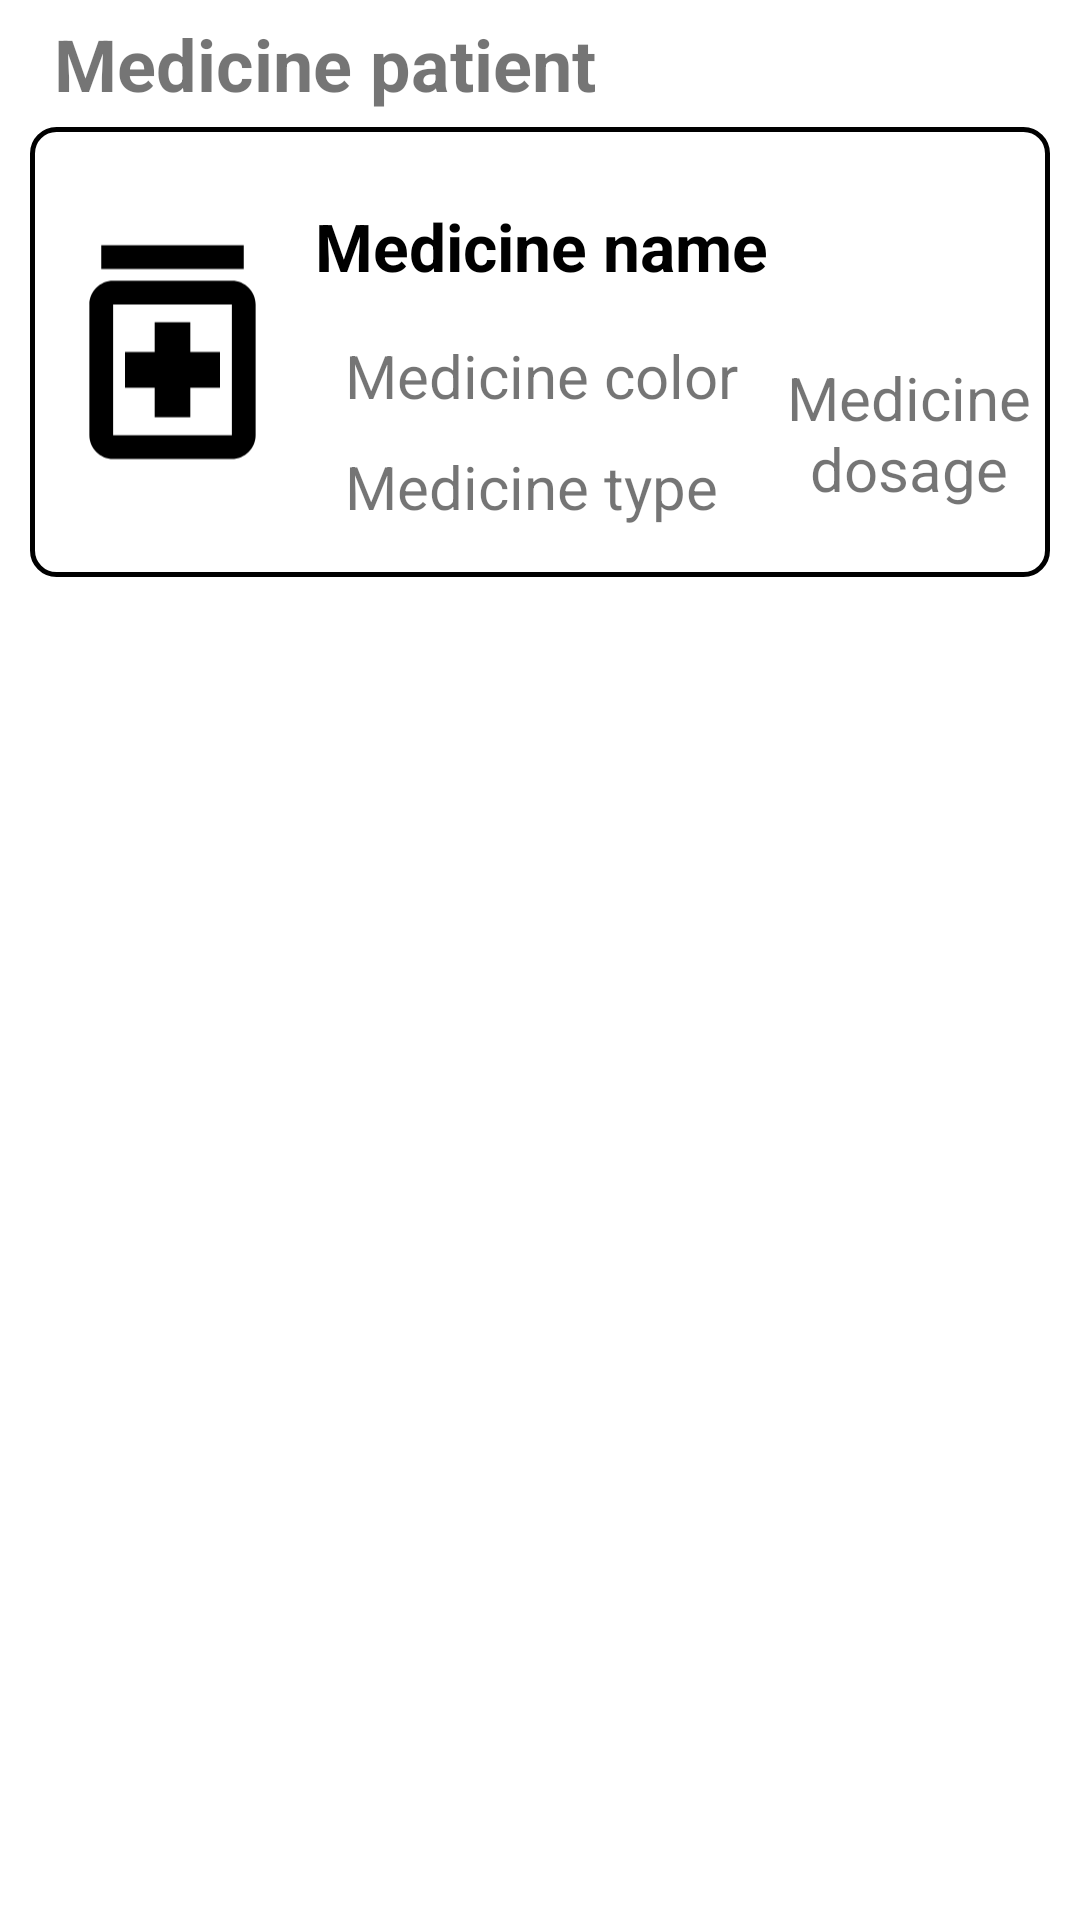

Named icons in this screenshot (1080×1920) and their bounding boxes, (x1, y1, x2, y2):
medication: (89, 244, 256, 460)
